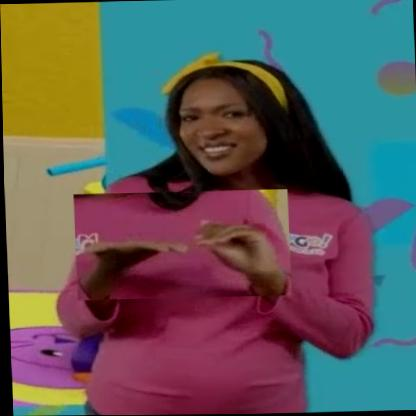ExcuseMe: (72, 189, 290, 300)
